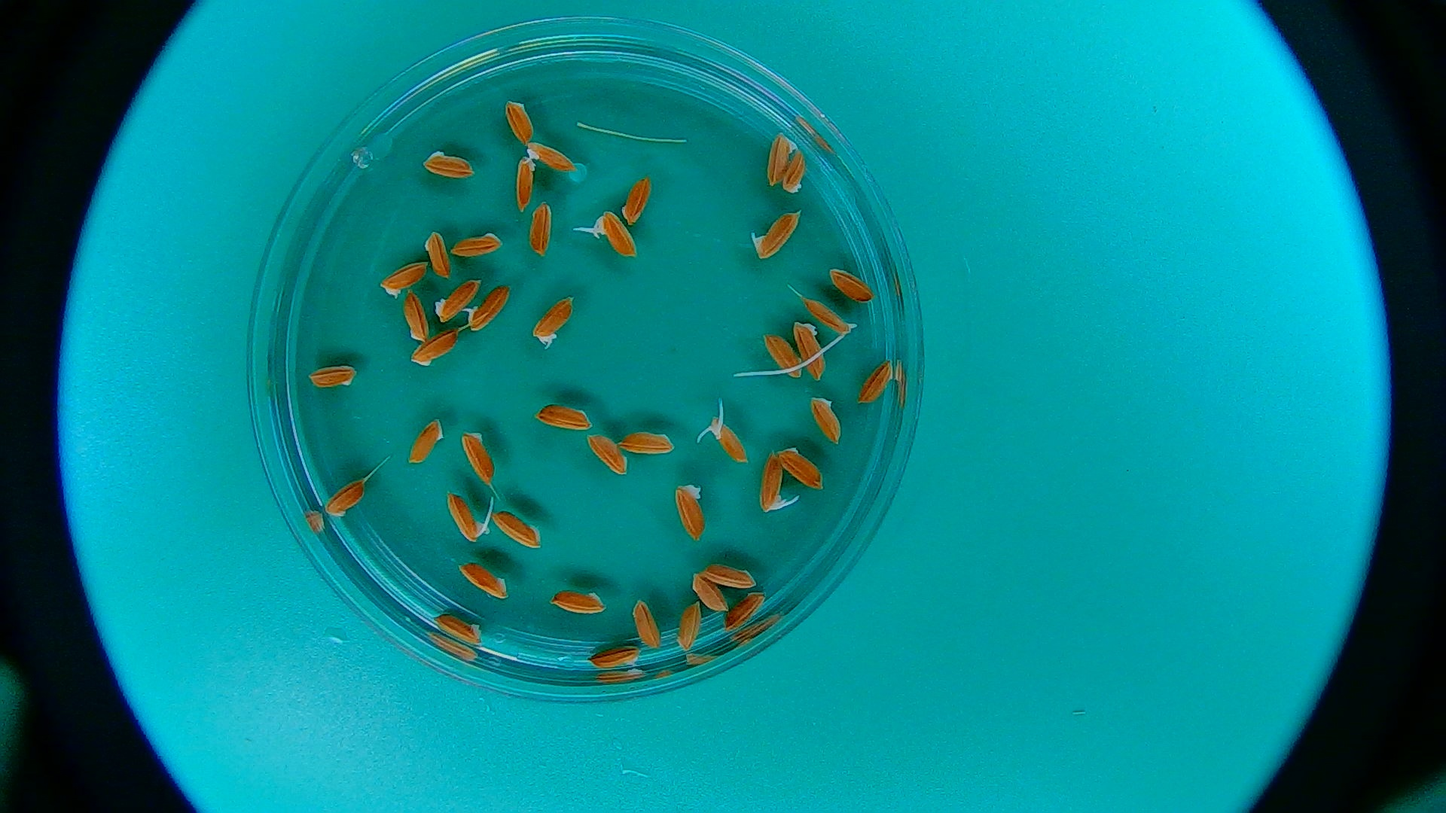no: (456, 430, 501, 494), (792, 320, 829, 388), (761, 327, 802, 382), (457, 559, 508, 602), (672, 480, 706, 543), (432, 275, 478, 321), (406, 416, 445, 467), (491, 510, 542, 549), (584, 434, 629, 478), (379, 260, 429, 299), (780, 446, 825, 489), (429, 610, 484, 643), (767, 130, 801, 183), (548, 586, 607, 616), (533, 402, 593, 431), (809, 395, 844, 444), (410, 336, 461, 369), (829, 266, 874, 303), (618, 427, 676, 455), (621, 172, 652, 224), (325, 478, 365, 517), (423, 149, 476, 178), (702, 562, 758, 589), (528, 201, 554, 259), (632, 597, 661, 649), (861, 359, 893, 406), (450, 232, 505, 259), (726, 591, 764, 630), (503, 97, 533, 143), (674, 601, 702, 650), (693, 573, 726, 614), (587, 644, 639, 670), (402, 290, 429, 340), (424, 231, 453, 277), (307, 366, 360, 391), (786, 151, 807, 198), (517, 157, 533, 213)
yes: (444, 489, 496, 544), (532, 295, 578, 351), (752, 209, 804, 255), (462, 285, 511, 330), (593, 211, 639, 257), (758, 450, 789, 516), (521, 142, 576, 174), (809, 298, 853, 337), (705, 418, 743, 461)
